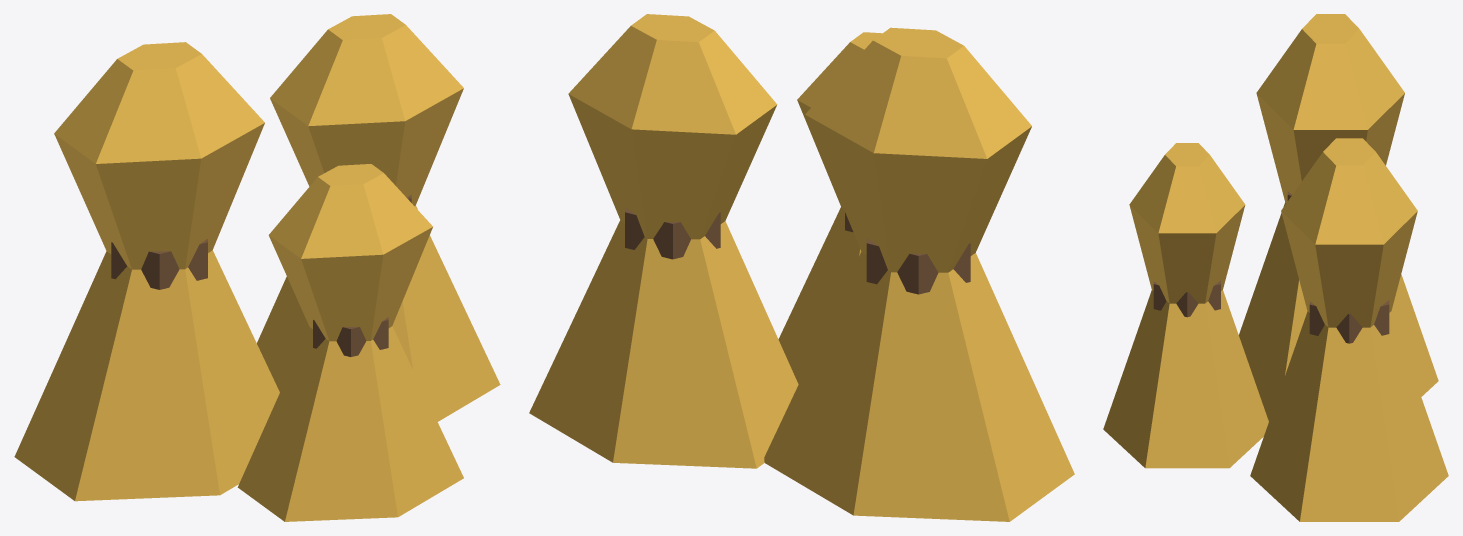
The model's file is ns-sheaf.glb.
3 renders of one model, left to right at view 1: azimuth 30°, elevation 25°; view 2: azimuth 150°, elevation 25°; view 3: azimuth 270°, elevation 25°, orthographic. The views are drawn at different scales.
Parts seen in each view (by area): view 1: Work profile; view 2: Work profile; view 3: Work profile.
Boxes of the visible parts, x1,y1,x2,y2 form: Work profile: (14, 14, 500, 521); Work profile: (529, 14, 1074, 521); Work profile: (1103, 14, 1448, 521).
Size of the model in its own units: 0.2174 by 0.187 by 0.1663.
